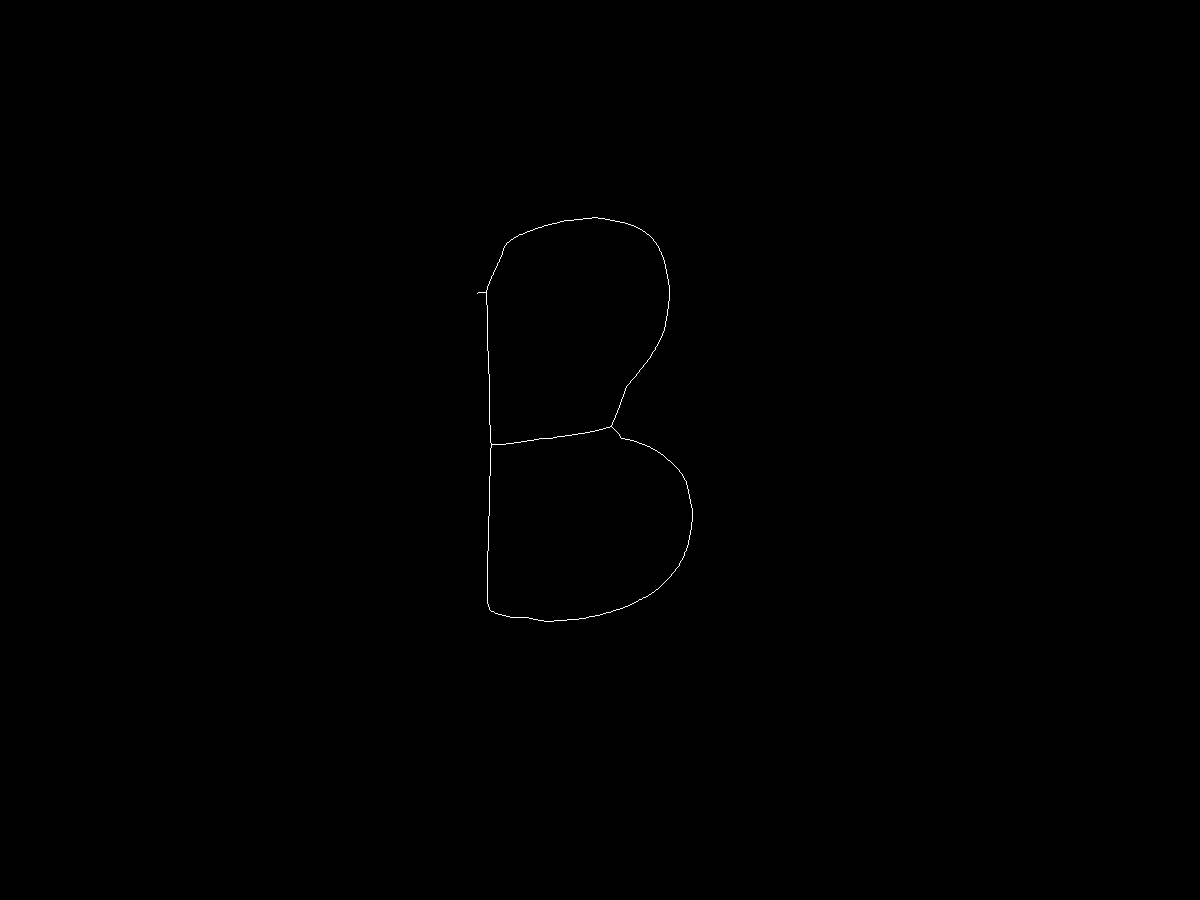dian1: (497, 248, 512, 263)
dian2: (479, 435, 504, 460)
dian3: (477, 598, 492, 613)
dian4: (604, 416, 626, 438)
